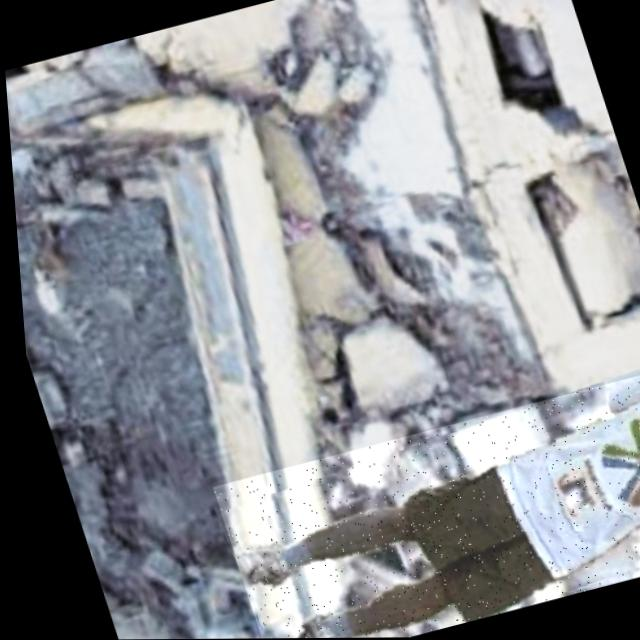Person in Rubble: (196, 363, 640, 639)
